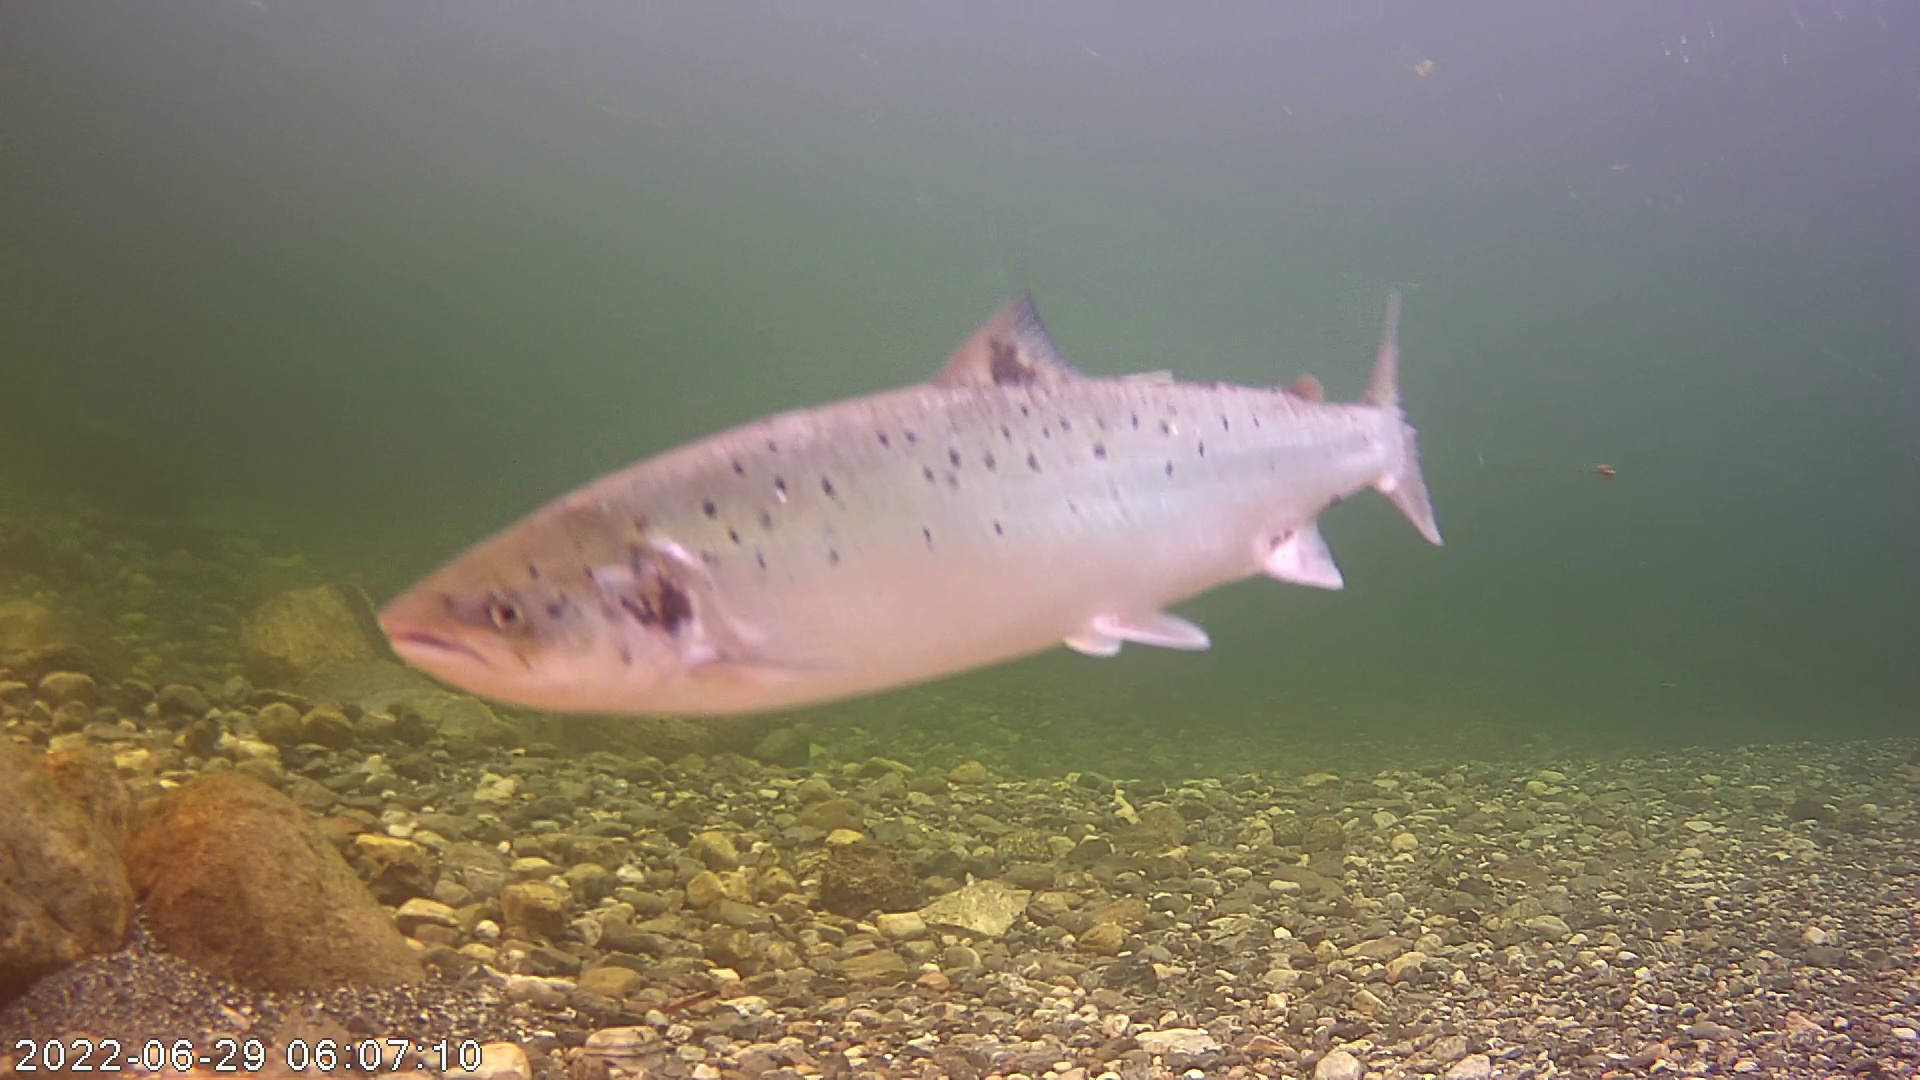salmon: (402, 218, 1441, 705)
